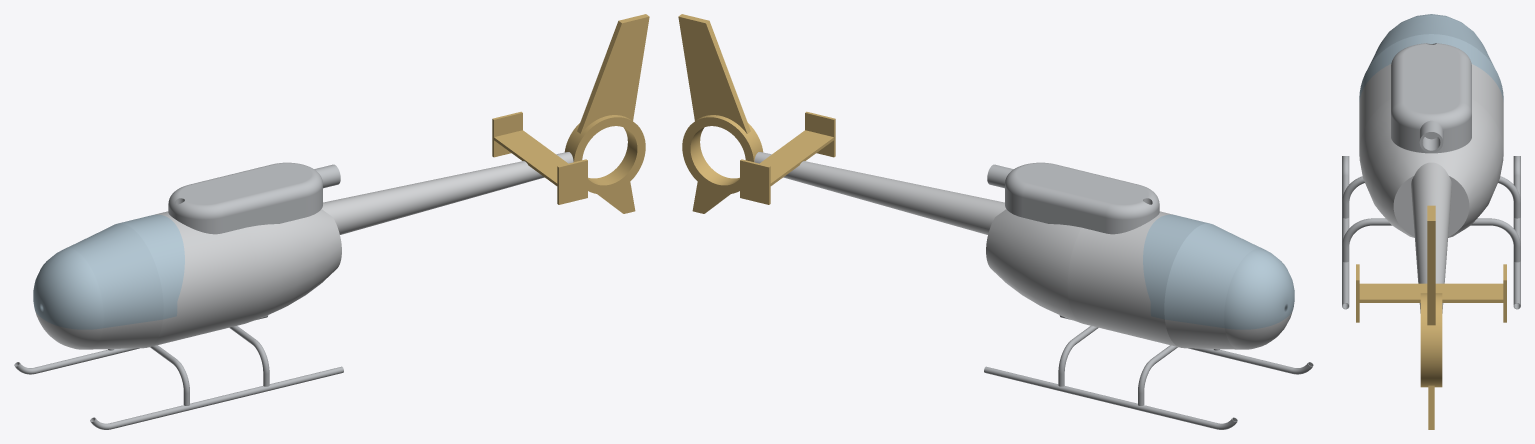
Rendered from step_50.glb.
The picture shows the model from 3 angles, left to right: view 1: azimuth 30°, elevation 25°; view 2: azimuth 150°, elevation 25°; view 3: azimuth 270°, elevation 25°; orthographic projection. The views are drawn at different scales.
Parts seen in each view (by area): view 1: part__fuselage, part__canopy glazing, part__engine cowling, part__fin and fan duct, part__tail boom, part__horizontal stabiliser, part__skid left, part__skid right; view 2: part__fuselage, part__canopy glazing, part__engine cowling, part__fin and fan duct, part__tail boom, part__horizontal stabiliser, part__skid right, part__skid left; view 3: part__fuselage, part__engine cowling, part__canopy glazing, part__tail boom, part__fin and fan duct, part__horizontal stabiliser, part__cross tube rear, part__skid right, part__skid left, part__cross tube front.
Boxes of the visible parts, x1,y1,x2,y2 form: part__fuselage: [35, 209, 341, 349]; part__canopy glazing: [33, 214, 184, 329]; part__engine cowling: [168, 162, 340, 234]; part__fin and fan duct: [564, 14, 649, 213]; part__tail boom: [322, 152, 573, 234]; part__horizontal stabiliser: [492, 111, 587, 204]; part__skid left: [90, 366, 343, 429]; part__skid right: [14, 315, 268, 374]; part__fuselage: [986, 209, 1292, 349]; part__canopy glazing: [1143, 214, 1294, 329]; part__engine cowling: [987, 162, 1159, 234]; part__fin and fan duct: [678, 14, 763, 213]; part__tail boom: [754, 152, 1005, 234]; part__horizontal stabiliser: [740, 111, 835, 204]; part__skid right: [984, 366, 1237, 429]; part__skid left: [1059, 315, 1313, 374]; part__fuselage: [1359, 64, 1503, 237]; part__engine cowling: [1391, 43, 1471, 153]; part__canopy glazing: [1359, 14, 1503, 101]; part__tail boom: [1411, 162, 1451, 313]; part__fin and fan duct: [1420, 205, 1442, 429]; part__horizontal stabiliser: [1356, 264, 1506, 322]; part__cross tube rear: [1342, 218, 1520, 262]; part__skid right: [1513, 156, 1520, 309]; part__skid left: [1342, 156, 1349, 309]; part__cross tube front: [1342, 176, 1520, 218].
Bounding box in the file's own units: 8773 × 3400 × 1980.
